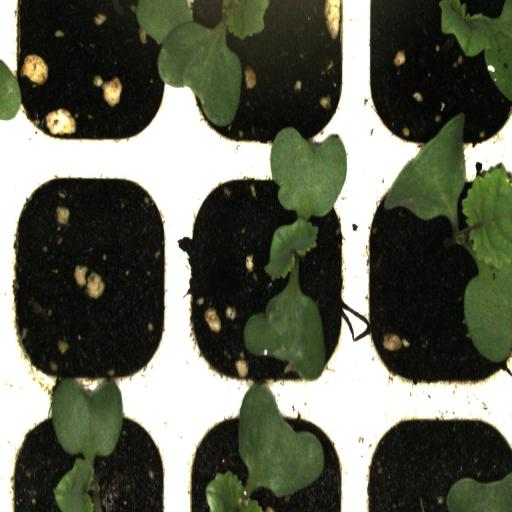Folha: (132, 0, 311, 127), (205, 383, 325, 512), (49, 377, 124, 512), (439, 0, 512, 101), (446, 472, 512, 512)
Germinacao: (177, 165, 358, 399), (360, 163, 512, 402)
